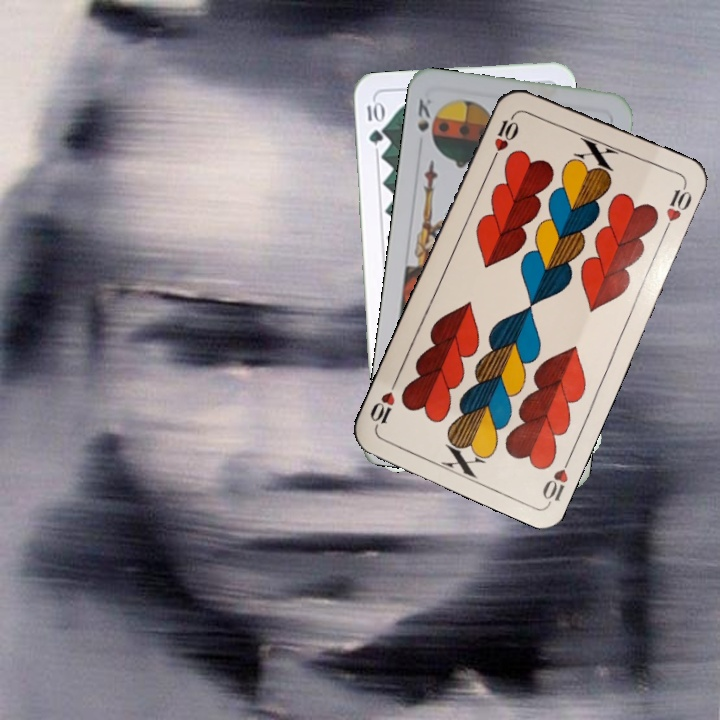G10: (363, 97, 385, 147)
H10: (538, 449, 575, 505), (488, 108, 522, 164)
SK: (413, 95, 434, 134)
